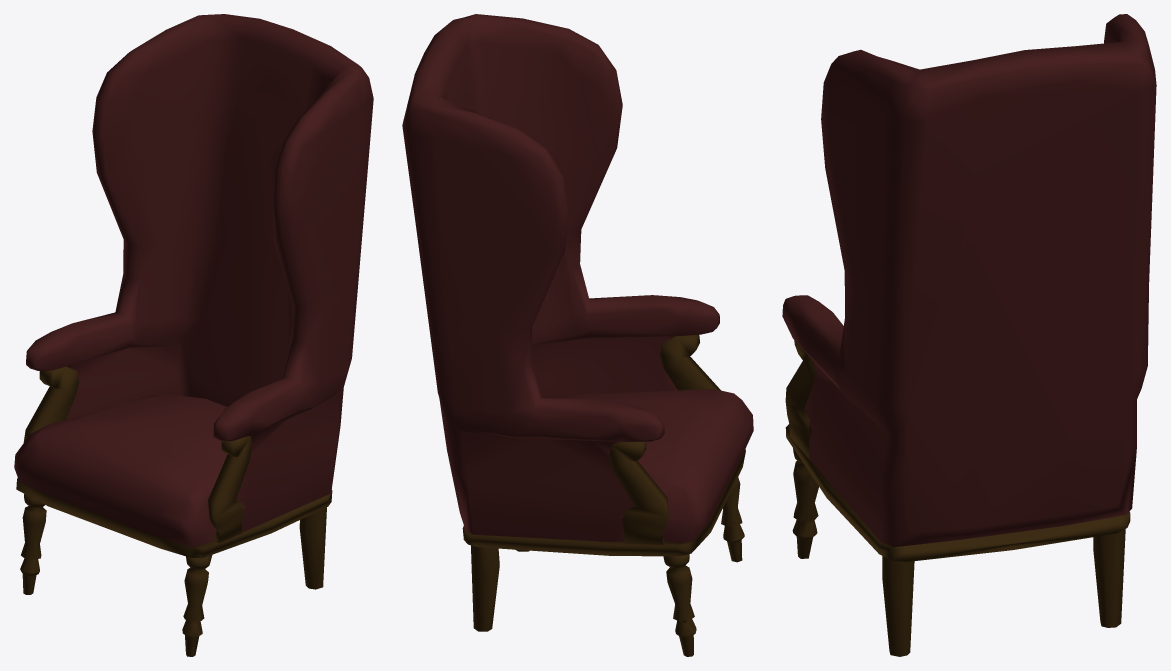
The picture shows the model from 3 angles, left to right: view 1: azimuth 30°, elevation 25°; view 2: azimuth 150°, elevation 25°; view 3: azimuth 270°, elevation 25°; orthographic projection. The views are drawn at different scales.
Parts seen in each view (by area): view 1: AntiqueChair; view 2: AntiqueChair; view 3: AntiqueChair.
Boxes of the visible parts, x1,y1,x2,y2 form: AntiqueChair: [14, 14, 373, 656]; AntiqueChair: [402, 14, 753, 656]; AntiqueChair: [782, 14, 1156, 656].
Size of what is drawn, in the model's own units: 0.9278 by 1.51 by 0.8333.
2 materials, 2 textured.
